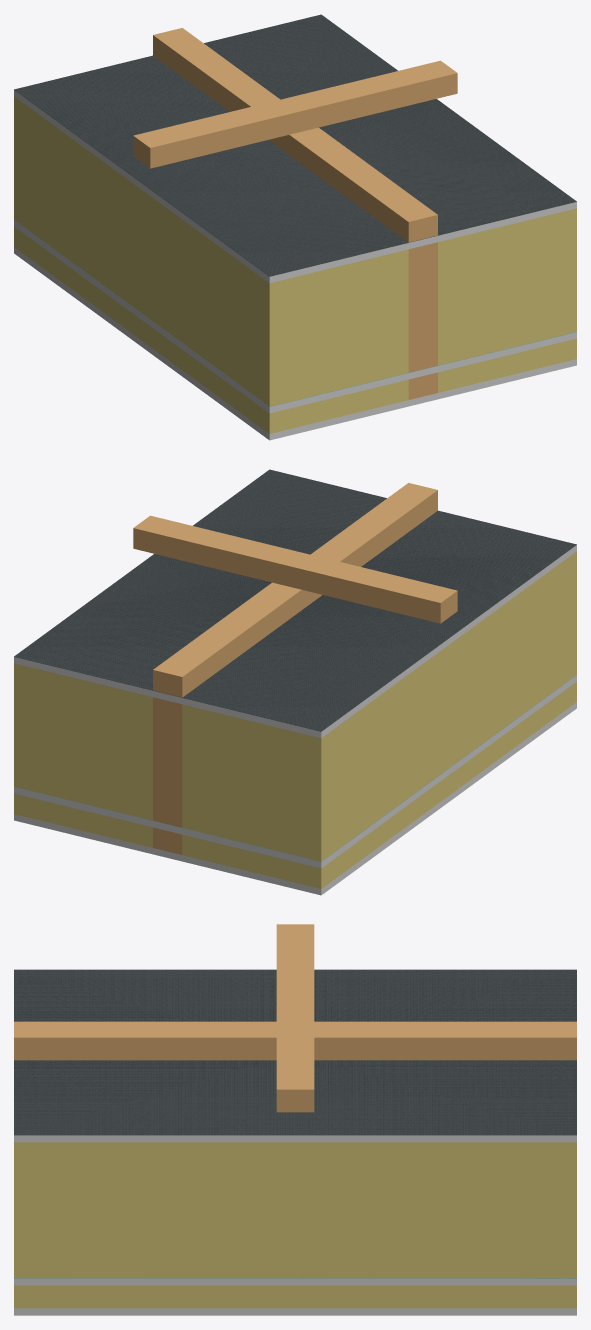
File: panel_1_2.obj
The picture shows the model from 3 angles, top to bottom: view 1: azimuth 30°, elevation 25°; view 2: azimuth 150°, elevation 25°; view 3: azimuth 270°, elevation 25°; orthographic projection. The views are drawn at different scales.
Visible parts, largest first — view 1: L09_solid, L07_infill_left, L07_infill_right, L11_horizontal_center, L10_vertical_center, L03_infill_left, L08_solid, L04_solid, L01_solid, L06_vertical_center, L03_infill_right, L02_vertical_center; view 2: L09_solid, L07_infill_left, L07_infill_right, L11_horizontal_center, L10_vertical_center, L03_infill_left, L08_solid, L04_solid, L01_solid, L06_vertical_center, L03_infill_right, L02_vertical_center; view 3: L07_infill_right, L09_solid, L10_vertical_center, L03_infill_right, L11_horizontal_center, L01_solid, L04_solid, L08_solid, L05_solid.
Part boxes in pixels (box(x1,y1,x2,y2)): L09_solid: box(14, 14, 576, 276); L07_infill_left: box(14, 96, 408, 406); L07_infill_right: box(438, 208, 576, 365); L11_horizontal_center: box(133, 60, 457, 168); L10_vertical_center: box(153, 28, 437, 242); L03_infill_left: box(14, 226, 408, 433); L08_solid: box(14, 90, 576, 283); L04_solid: box(14, 220, 576, 413); L01_solid: box(14, 247, 576, 440); L06_vertical_center: box(408, 242, 437, 372); L03_infill_right: box(438, 338, 576, 392); L02_vertical_center: box(408, 372, 437, 399); L09_solid: box(14, 469, 576, 731); L07_infill_left: box(182, 551, 576, 861); L07_infill_right: box(14, 663, 152, 820); L11_horizontal_center: box(133, 515, 457, 623); L10_vertical_center: box(153, 483, 437, 697); L03_infill_left: box(182, 681, 576, 888); L08_solid: box(14, 545, 576, 738); L04_solid: box(14, 675, 576, 868); L01_solid: box(14, 702, 576, 895); L06_vertical_center: box(153, 697, 182, 827); L03_infill_right: box(14, 793, 152, 847); L02_vertical_center: box(153, 827, 182, 854); L07_infill_right: box(14, 1142, 576, 1278); L09_solid: box(14, 969, 576, 1135); L10_vertical_center: box(14, 1021, 576, 1060); L03_infill_right: box(14, 1285, 576, 1308); L11_horizontal_center: box(276, 924, 314, 1112); L01_solid: box(14, 1308, 576, 1315); L04_solid: box(14, 1278, 576, 1285); L08_solid: box(14, 1135, 576, 1142); L05_solid: box(14, 1278, 576, 1278).
Bounding box in the file's own units: 625 × 398 × 900.
